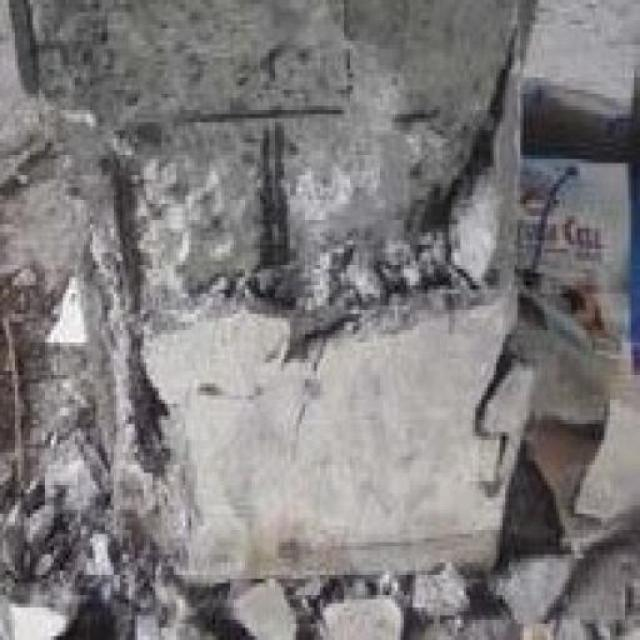D0w0: (0, 0, 530, 636)
